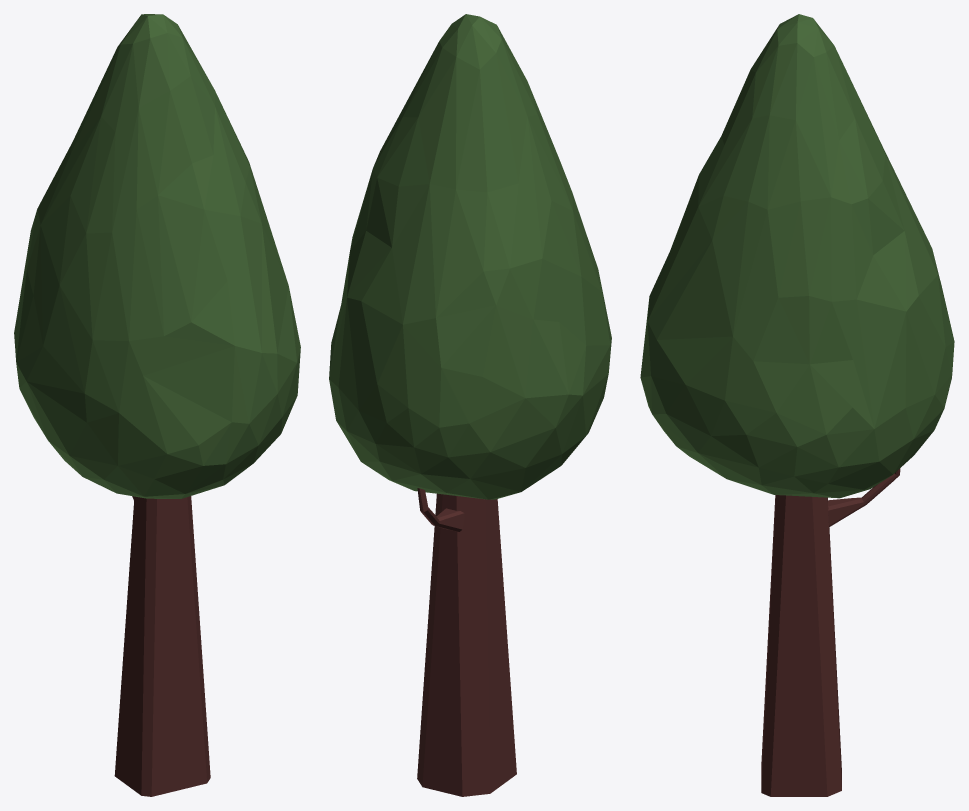
The model's file is Tree_3.fbx.
3 views of the same model, side by side, from view 1: azimuth 30°, elevation 25°; view 2: azimuth 150°, elevation 25°; view 3: azimuth 270°, elevation 25° (orthographic).
Parts seen in each view (by area): view 1: Cube; view 2: Cube; view 3: Cube.
Boxes of the visible parts, x1=… form: Cube: x1=14, y1=14, x2=300, y2=796; Cube: x1=329, y1=14, x2=611, y2=796; Cube: x1=640, y1=14, x2=954, y2=796.
Size of the model in its own units: 229 by 679 by 255.
